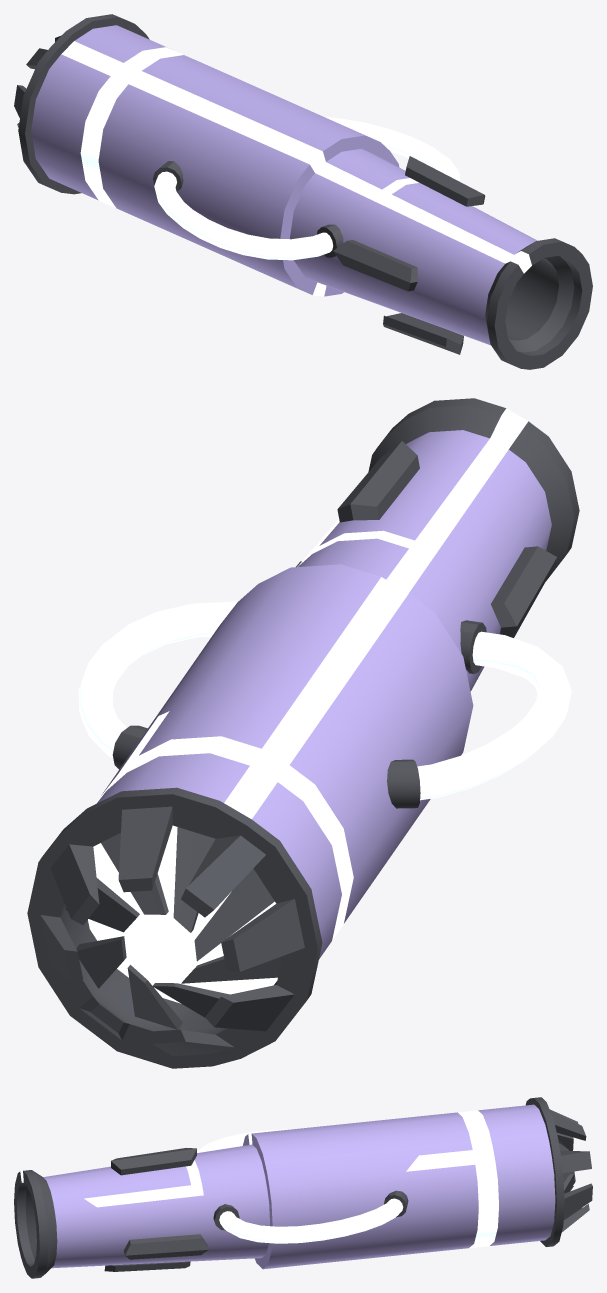
Rendered from delo.fbx.
3 views of the same model, one above another, from view 1: azimuth 30°, elevation 25°; view 2: azimuth 150°, elevation 25°; view 3: azimuth 270°, elevation 25° (orthographic). The views are drawn at different scales.
Visible parts, largest first — view 1: Cylinder; view 2: Cylinder; view 3: Cylinder.
Boxes of the visible parts, box(x1,y1,x2,y2) form: Cylinder: box(14, 14, 592, 369); Cylinder: box(27, 398, 579, 1068); Cylinder: box(14, 1097, 592, 1278).
Size of the model in its own units: 212 by 124 by 474.
